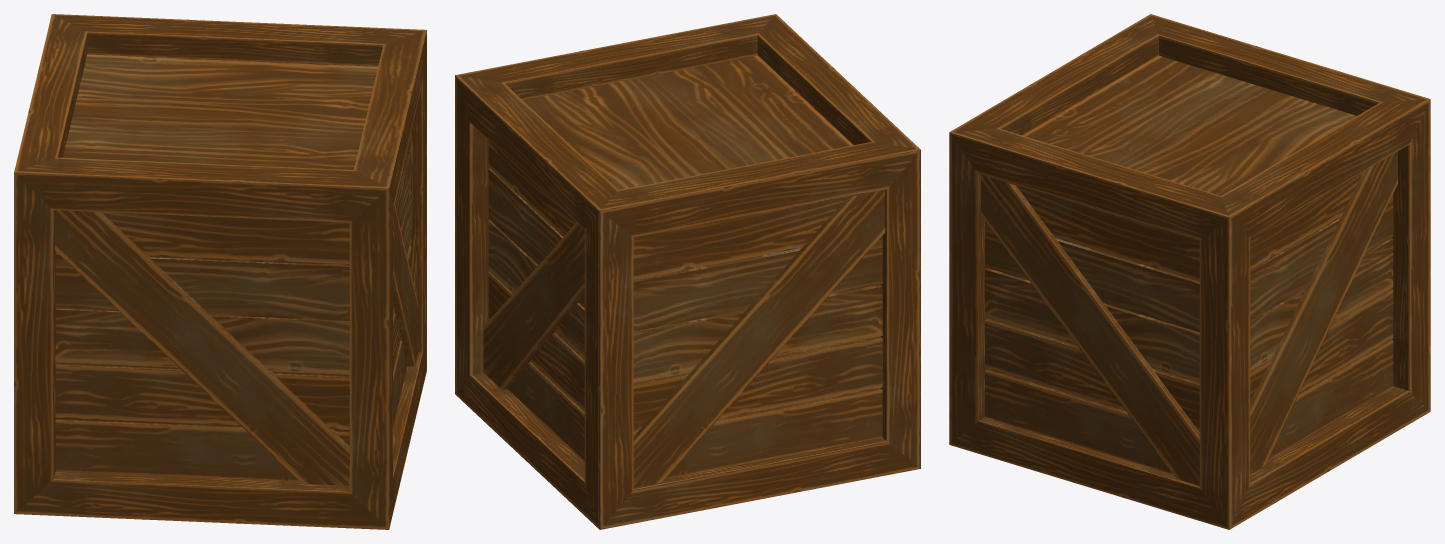
The picture shows the model from 3 angles, left to right: view 1: azimuth 30°, elevation 25°; view 2: azimuth 150°, elevation 25°; view 3: azimuth 270°, elevation 25°; orthographic projection. The views are drawn at different scales.
Parts seen in each view (by area): view 1: Cube.1386; view 2: Cube.1386; view 3: Cube.1386.
Boxes of the visible parts, bbox=[...] form: Cube.1386: bbox=[14, 14, 426, 529]; Cube.1386: bbox=[455, 14, 920, 529]; Cube.1386: bbox=[949, 14, 1430, 529].
Bounding box in the file's own units: 131 × 93.55 × 131.
Materials: 1 (1 with a texture image).
